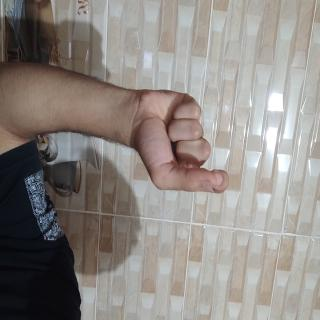FAA: (63, 118, 149, 260)
